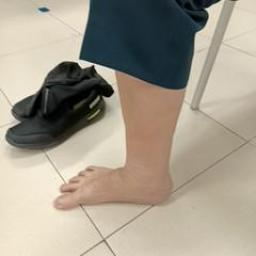Medial View -Right Foot-: (36, 135, 193, 221)
